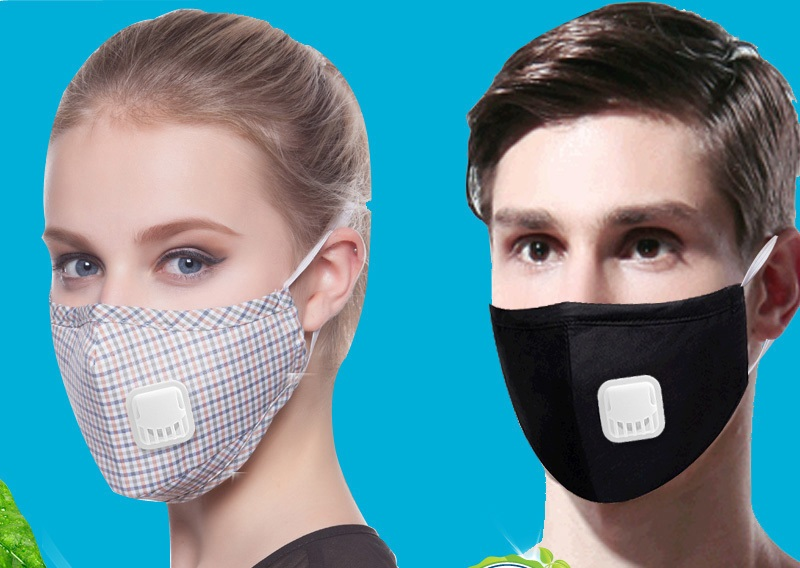face_mask: (487, 118, 746, 496), (47, 130, 297, 503)
